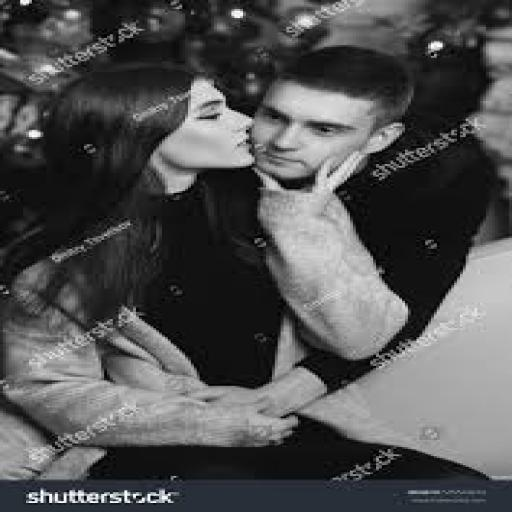hugging: (0, 41, 503, 477)
